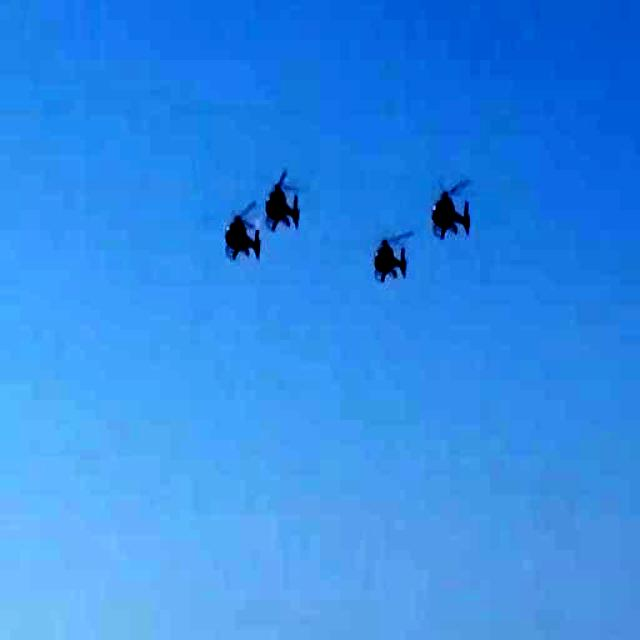drone: (429, 174, 482, 246), (366, 222, 415, 288), (264, 169, 314, 231), (220, 199, 261, 266)
